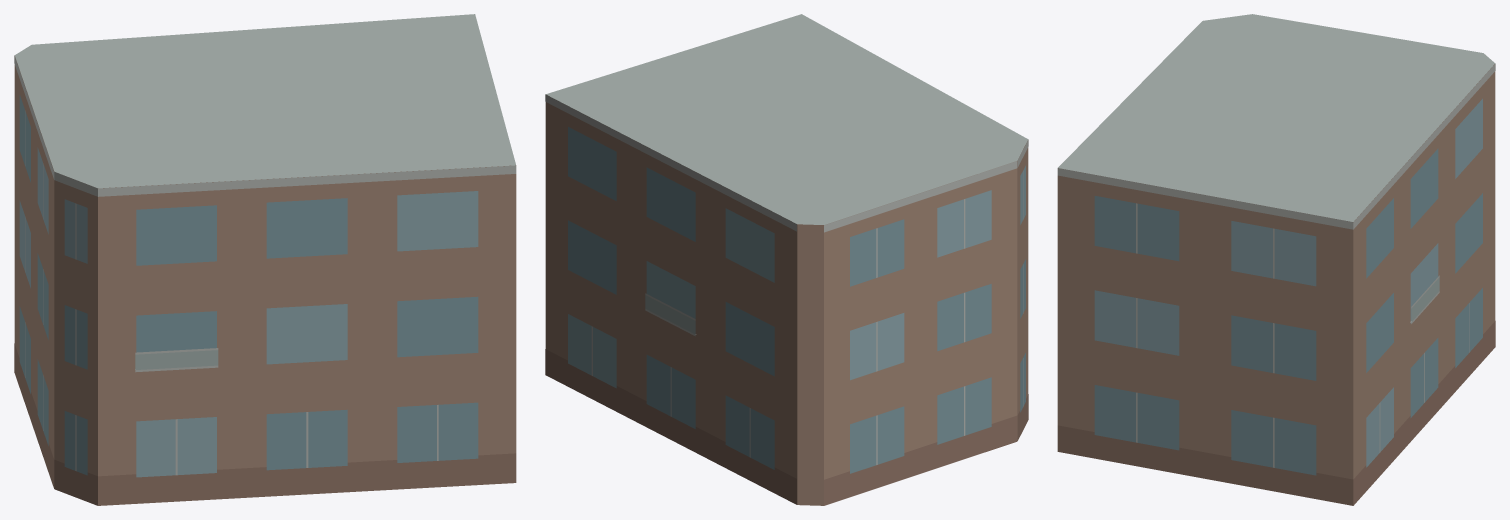
File: survey-upis-32682223.glb
3 renders of one model, left to right at view 1: azimuth 30°, elevation 25°; view 2: azimuth 150°, elevation 25°; view 3: azimuth 270°, elevation 25°, orthographic. The views are drawn at different scales.
Parts seen in each view (by area): view 1: survey-upis-32682223.tmp; view 2: survey-upis-32682223.tmp; view 3: survey-upis-32682223.tmp.
Boxes of the visible parts, x1,y1,x2,y2 form: survey-upis-32682223.tmp: (14,14,516,505); survey-upis-32682223.tmp: (545,14,1028,505); survey-upis-32682223.tmp: (1057,14,1495,505).
Bounding box in the file's own units: 14.4 × 9.15 × 12.8.
